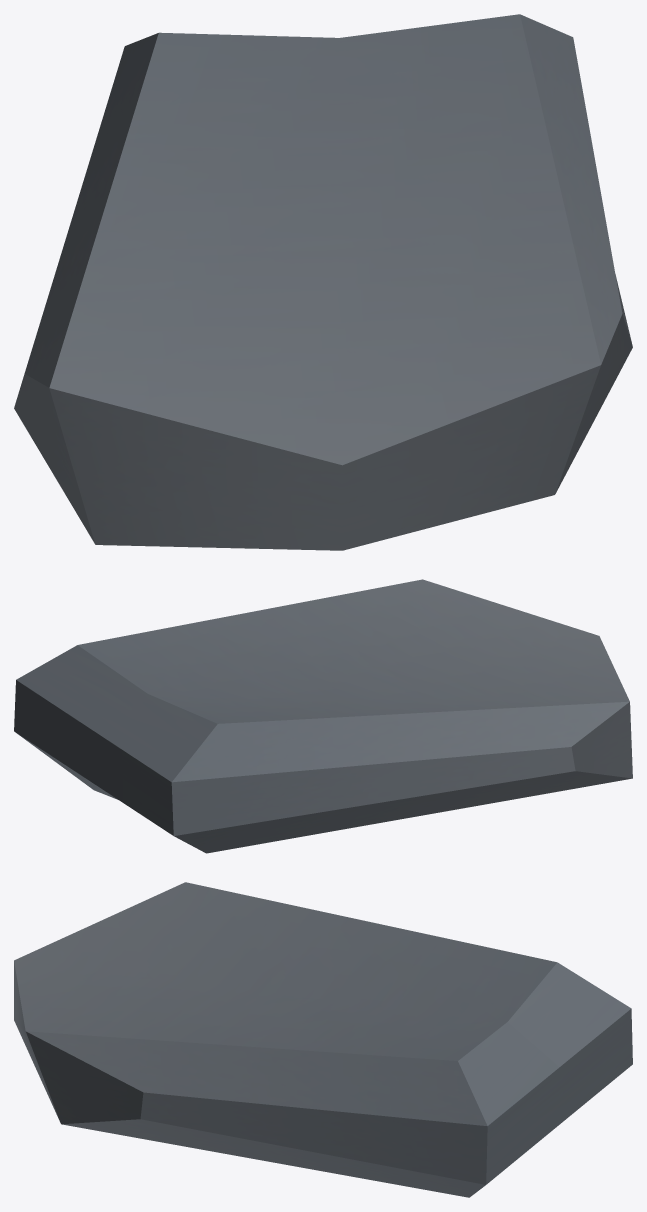
The model's file is rocaLisa3.fbx.
3 renders of one model, top to bottom at view 1: azimuth 30°, elevation 25°; view 2: azimuth 150°, elevation 25°; view 3: azimuth 270°, elevation 25°, orthographic. The views are drawn at different scales.
Visible parts, largest first — view 1: rocaLisa2; view 2: rocaLisa2; view 3: rocaLisa2.
Part boxes in pixels (x1=…): rocaLisa2: x1=14, y1=14, x2=632, y2=550; rocaLisa2: x1=14, y1=579, x2=632, y2=853; rocaLisa2: x1=14, y1=882, x2=632, y2=1197.
Bounding box in the file's own units: 221 × 60.08 × 228.
